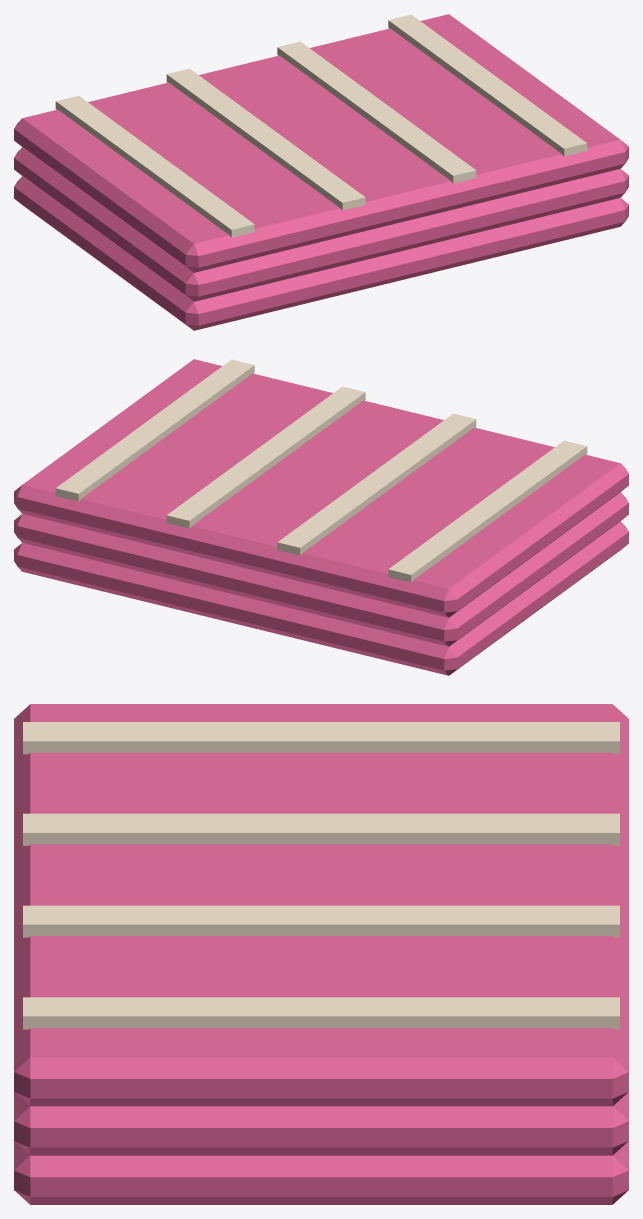
3 views of the same model, one above another, from view 1: azimuth 30°, elevation 25°; view 2: azimuth 150°, elevation 25°; view 3: azimuth 270°, elevation 25° (orthographic). The views are drawn at different scales.
Visible parts, largest first — view 1: Folded textile.002, Folded textile, Folded textile.001, Woven blanket stripe.001, Woven blanket stripe.002, Woven blanket stripe.003, Woven blanket stripe; view 2: Folded textile.002, Folded textile, Folded textile.001, Woven blanket stripe.001, Woven blanket stripe.002, Woven blanket stripe.003, Woven blanket stripe; view 3: Folded textile.002, Folded textile, Folded textile.001, Woven blanket stripe.001, Woven blanket stripe, Woven blanket stripe.002, Woven blanket stripe.003.
Part boxes in pixels (x1,y1,x2,y2): Folded textile.002: [14, 14, 628, 272]; Folded textile: [14, 176, 628, 330]; Folded textile.001: [14, 147, 628, 301]; Woven blanket stripe.001: [166, 68, 365, 210]; Woven blanket stripe.002: [277, 41, 476, 183]; Woven blanket stripe.003: [388, 14, 587, 156]; Woven blanket stripe: [55, 95, 254, 237]; Folded textile.002: [14, 359, 628, 617]; Folded textile: [14, 521, 628, 675]; Folded textile.001: [14, 492, 628, 646]; Woven blanket stripe.001: [277, 413, 476, 555]; Woven blanket stripe.002: [166, 386, 365, 528]; Woven blanket stripe.003: [55, 359, 254, 501]; Woven blanket stripe: [388, 440, 587, 582]; Folded textile.002: [14, 704, 628, 1106]; Folded textile: [14, 1141, 628, 1204]; Folded textile.001: [14, 1092, 628, 1155]; Woven blanket stripe.001: [23, 813, 619, 845]; Woven blanket stripe: [23, 722, 619, 754]; Woven blanket stripe.002: [23, 905, 619, 937]; Woven blanket stripe.003: [23, 997, 619, 1029].
Size of the model in its own units: 48 by 9.7 by 34.
